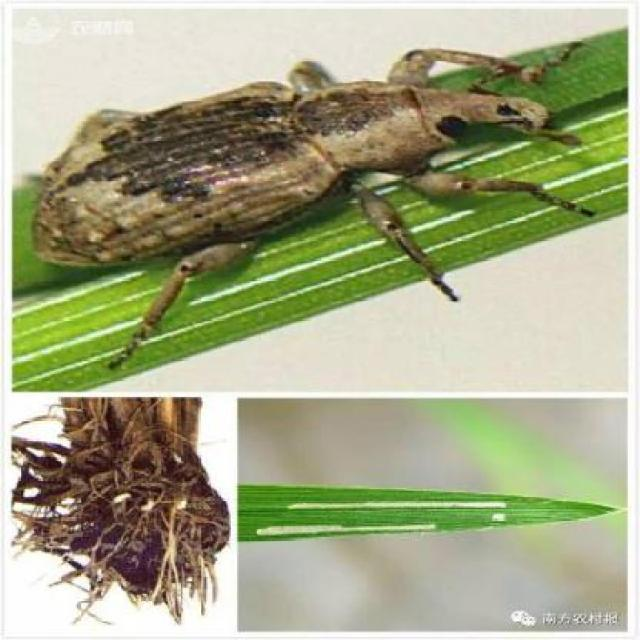rice-bug: (31, 46, 547, 279)
